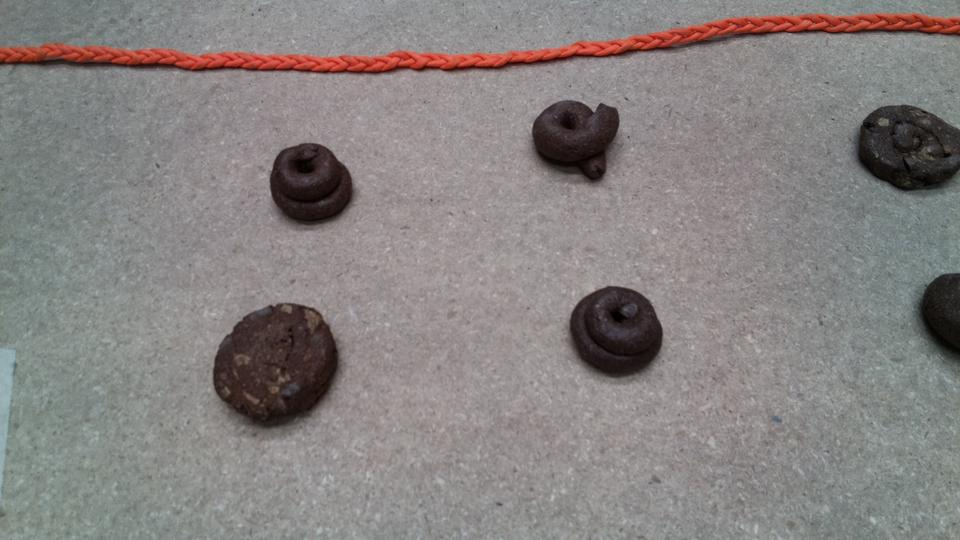poop: (204, 303, 351, 429), (562, 286, 676, 380), (861, 99, 960, 201), (526, 100, 629, 184), (262, 139, 358, 226)
rope: (3, 22, 496, 84), (469, 11, 960, 70), (527, 93, 628, 185)
